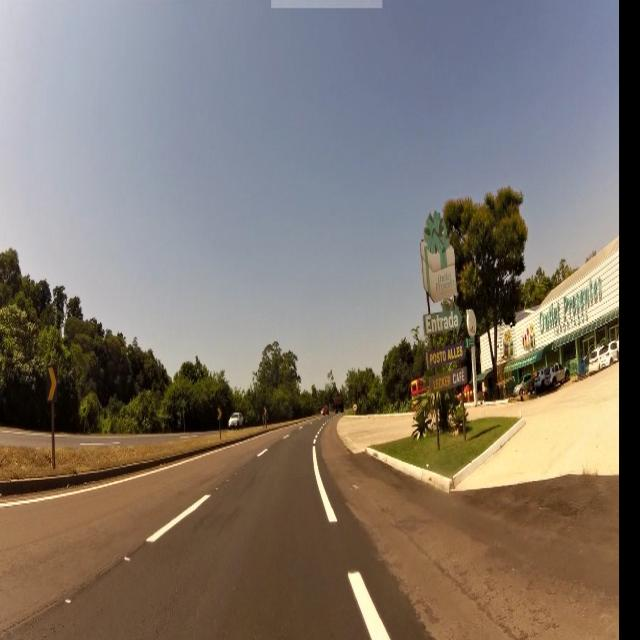Del: (44, 365, 58, 401), (216, 408, 222, 422)
